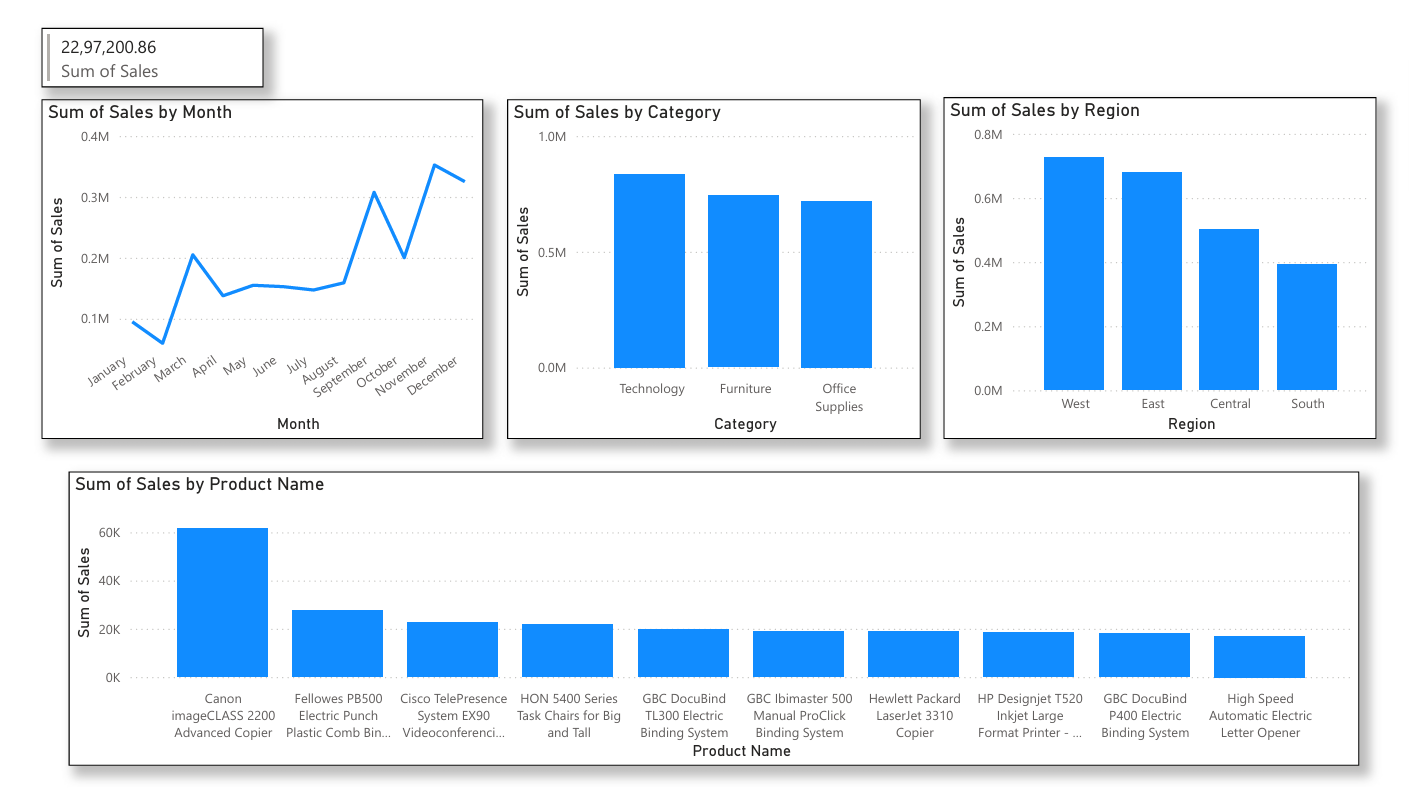

This screenshot's page, from the dashboard's own definition file:
{"tool":"powerbi","page":{"name":"Page 1","canvas":[1280,720],"ordinal":0},"visuals":[{"type":"lineChart","fields":{"Y":["Sum(superstore_sales_analysis.Sales)"],"Category":["superstore_sales_analysis.Order Date.Variation.Date Hierarchy.Month"]},"box":[18.3,77,407.2,314.3],"z":0},{"type":"clusteredColumnChart","fields":{"Category":["superstore_sales_analysis.Category"],"Y":["Sum(superstore_sales_analysis.Sales)"]},"box":[447.6,77,382.7,314.3],"z":1},{"type":"clusteredColumnChart","fields":{"Category":["superstore_sales_analysis.Region"],"Y":["Sum(superstore_sales_analysis.Sales)"]},"box":[851.1,74.6,399.9,316.7],"z":2},{"type":"multiRowCard","fields":{"Values":["Sum(superstore_sales_analysis.Sales)"]},"box":[18.3,11,204.2,55],"z":3},{"type":"clusteredColumnChart","fields":{"Category":["superstore_sales_analysis.Product Name"],"Y":["Sum(superstore_sales_analysis.Sales)"]},"box":[42.8,420.7,1192.3,272.7],"z":4}]}

Visuals, with their boxes in screenshot pixels (x1, y1, x2, y2), scaled from the page's 1280x720 canvas onto the 1426x806 screenshot:
lineChart - Sum(superstore_sales_analysis.Sales) x superstore_sales_analysis.Order Date.Variation.Date Hierarchy.Month: box=[20, 86, 474, 438]
clusteredColumnChart - superstore_sales_analysis.Category x Sum(superstore_sales_analysis.Sales): box=[499, 86, 925, 438]
clusteredColumnChart - superstore_sales_analysis.Region x Sum(superstore_sales_analysis.Sales): box=[948, 84, 1394, 438]
multiRowCard - Sum(superstore_sales_analysis.Sales): box=[20, 12, 248, 74]
clusteredColumnChart - superstore_sales_analysis.Product Name x Sum(superstore_sales_analysis.Sales): box=[48, 471, 1376, 776]
